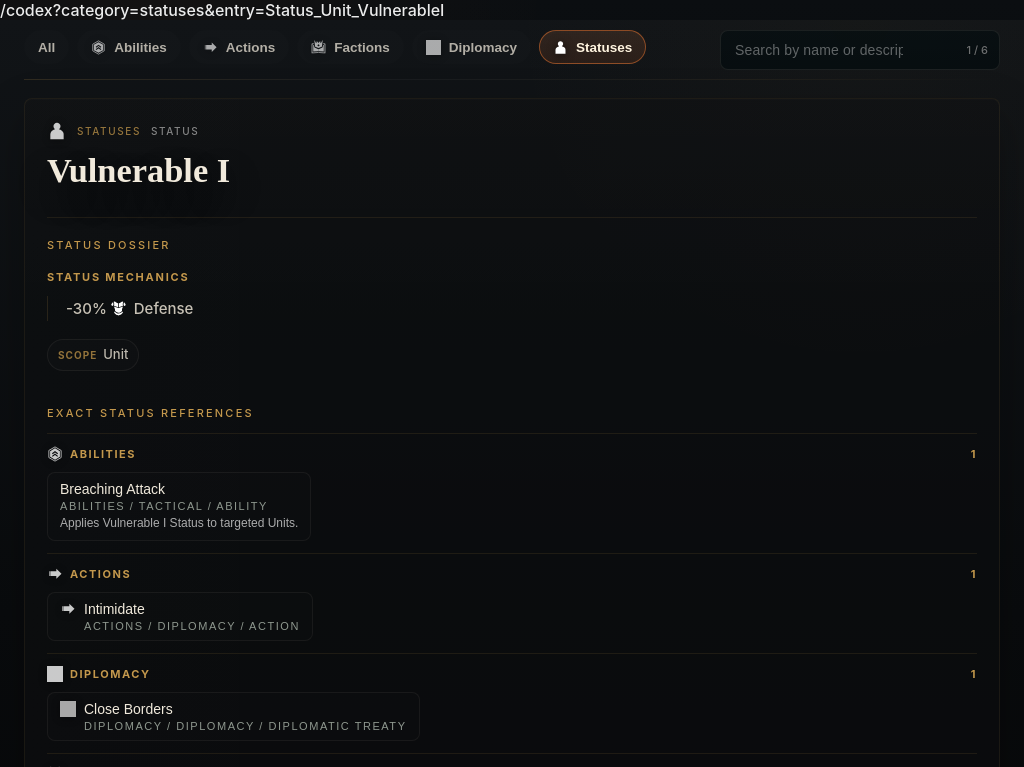
Test: CodexPage metadata relationship rendering › shows grouped exact relationship sources on Status details without prose-only matches
The image size is (1024, 767).
Expected: the heading "Vulnerable I" is shown, [47,151,230,189]
Expected: the text "Abilities" below "Exact Status References" is shown, [70,447,136,461]
Click the button "Breaching Attack Abilities".
click(179, 506)  # box [47,472,311,541]
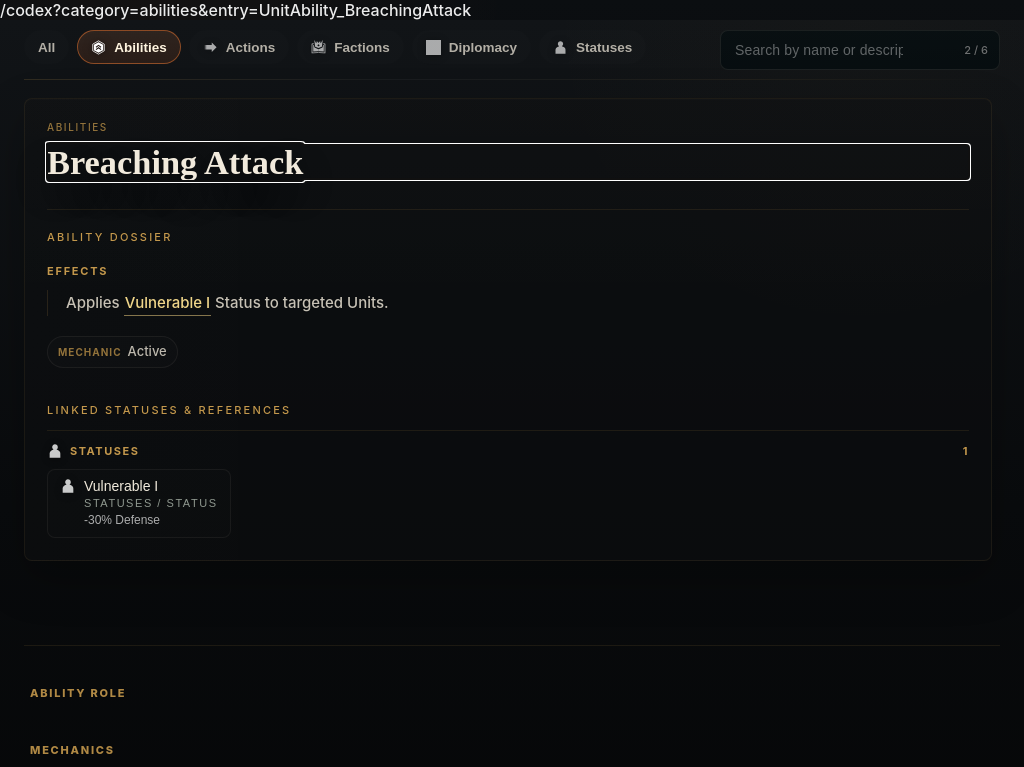
Now the heading "Breaching Attack" is shown, box [47,143,303,181]
Now the text with test id "location-probe" reads "/codex?category=abilities&entry=UnitAbility_BreachingAttack", box [0,0,471,20]
